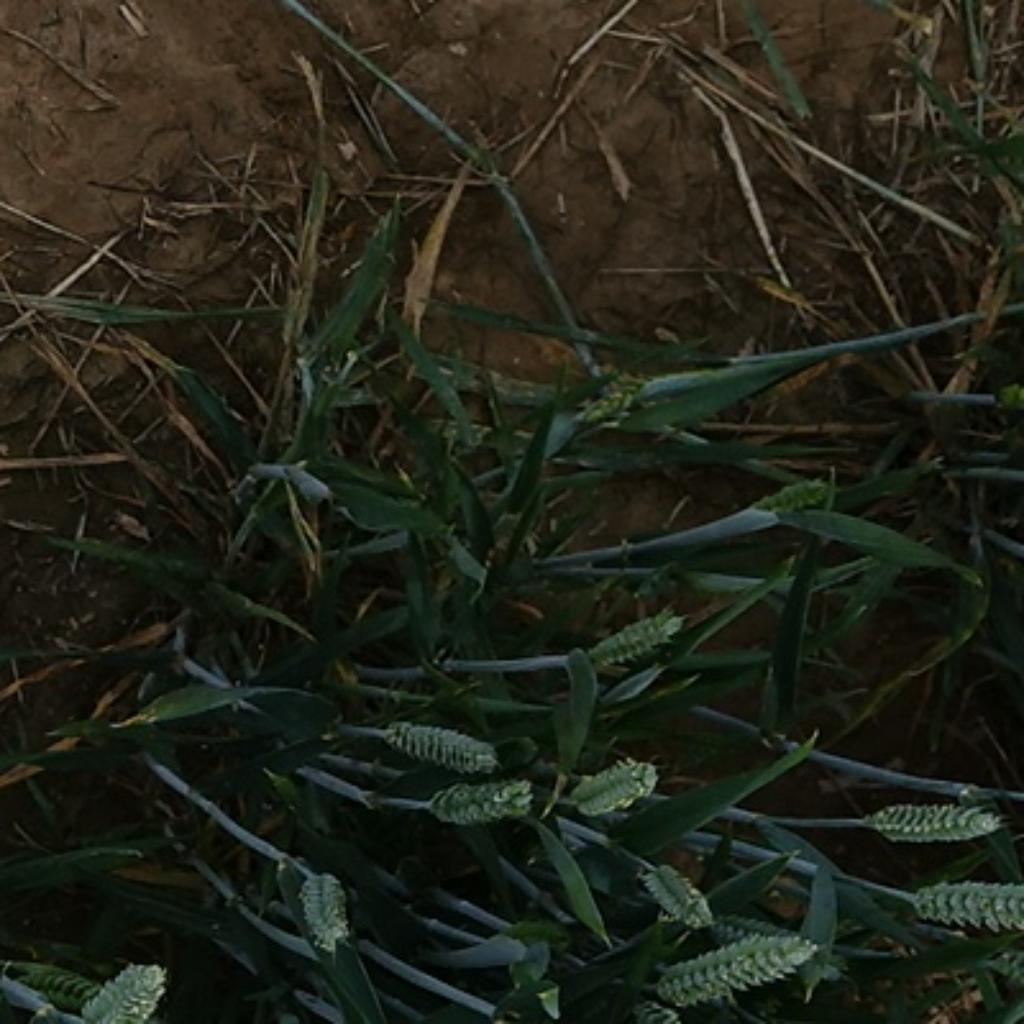0-0: (654, 932, 819, 1004), (716, 915, 860, 980), (376, 709, 504, 773), (568, 366, 709, 422), (419, 770, 545, 832), (583, 599, 693, 670), (857, 793, 1006, 844), (565, 744, 665, 819), (286, 862, 360, 956), (903, 878, 1024, 934), (4, 947, 103, 1011), (634, 852, 714, 924), (84, 960, 174, 1024), (748, 478, 840, 532), (633, 988, 684, 1024)
